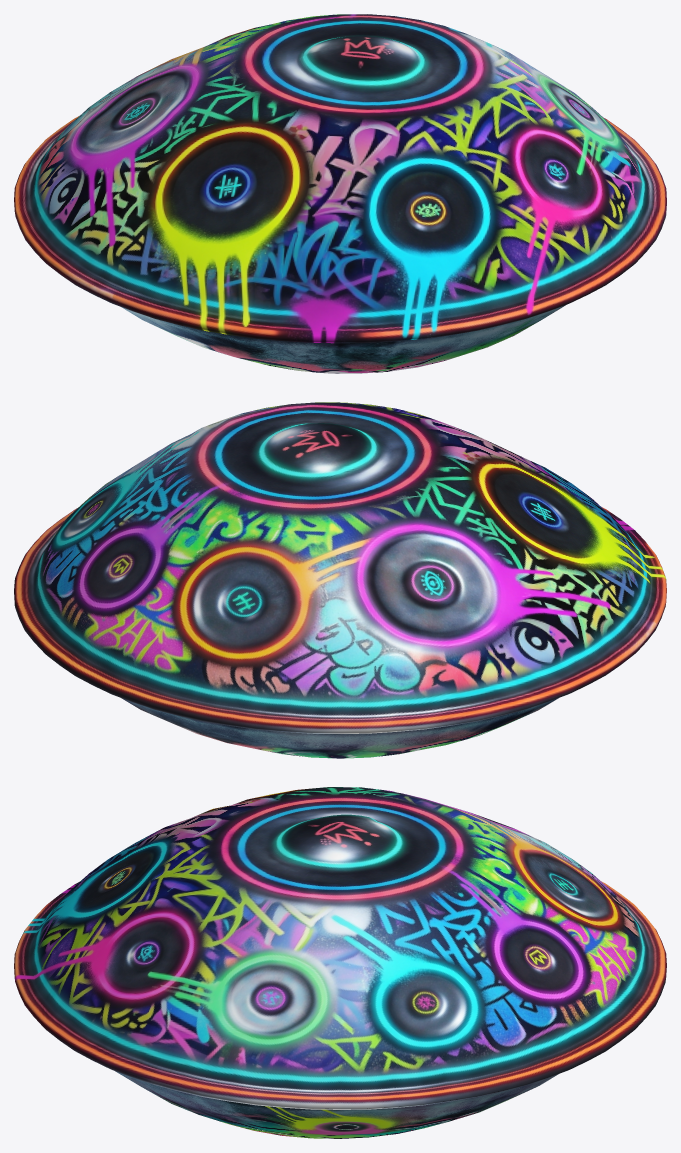
3 renders of one model, top to bottom at view 1: azimuth 30°, elevation 25°; view 2: azimuth 150°, elevation 25°; view 3: azimuth 270°, elevation 25°, orthographic.
Visible parts, largest first — view 1: g; view 2: g; view 3: g.
Part boxes in pixels (x1=…): g: x1=14, y1=14, x2=666, y2=373; g: x1=14, y1=402, x2=666, y2=758; g: x1=14, y1=787, x2=666, y2=1138.
Bounding box in the file's own units: 2 × 0.9154 × 2.
Materials: 1 (1 with a texture image).
